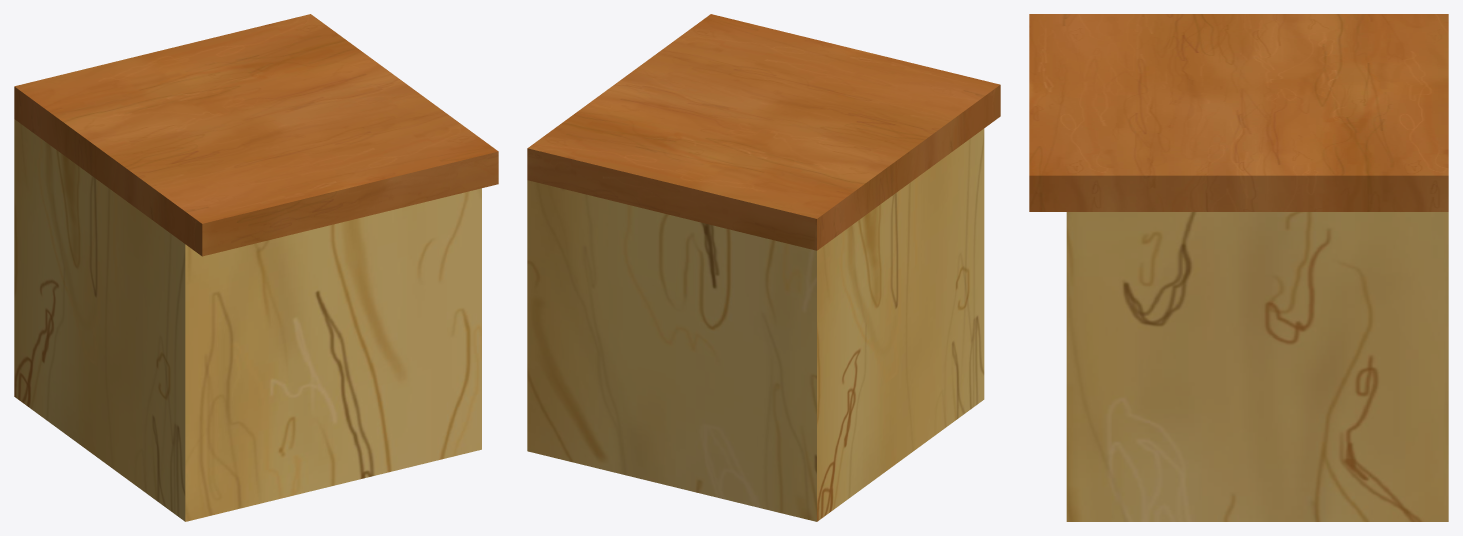
File: worktop.fbx
The picture shows the model from 3 angles, left to right: view 1: azimuth 30°, elevation 25°; view 2: azimuth 150°, elevation 25°; view 3: azimuth 270°, elevation 25°; orthographic projection. The views are drawn at different scales.
Parts seen in each view (by area): view 1: pCube2; view 2: pCube2; view 3: pCube2.
Part boxes in pixels (bbox=[...]): pCube2: bbox=[14, 14, 498, 521]; pCube2: bbox=[527, 14, 1000, 521]; pCube2: bbox=[1029, 14, 1448, 521].
Bounding box in the file's own units: 8 × 8 × 8.78.
2 materials, 2 textured.
